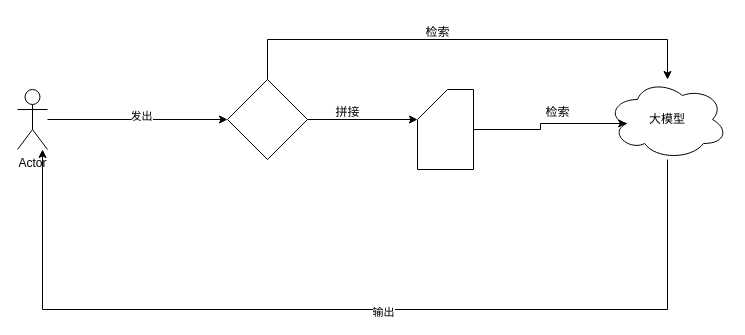
Image size: 745x335. Some labels were removed from this diagram. The shapes that lost their labels are listed below. From the top down, each one's centre as x and y in pixels, then its label:
(267,119): sql优化问题
(445,129): 提示词
